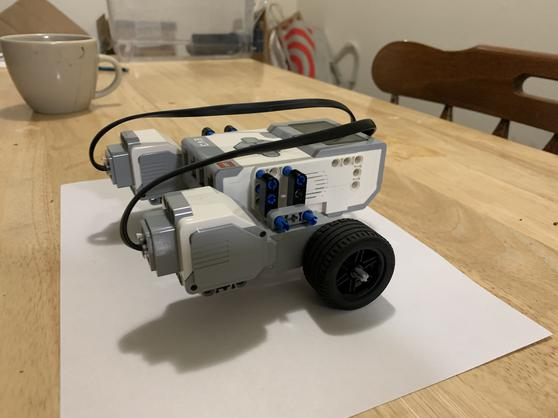robot: (73, 95, 408, 315)
